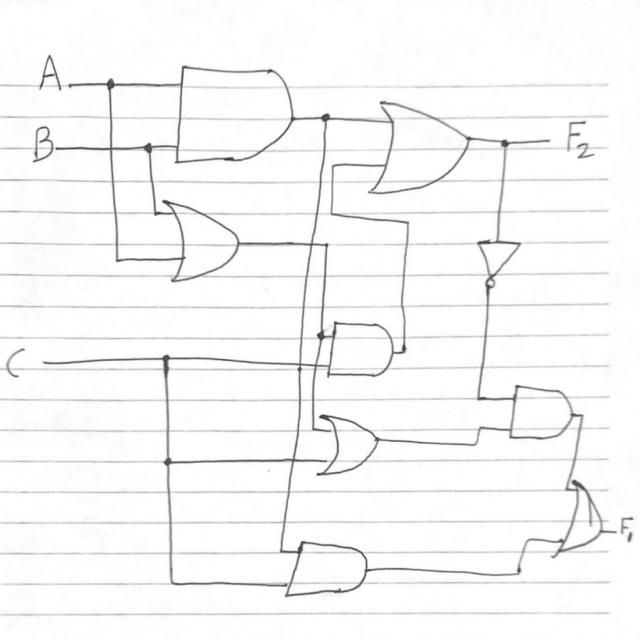AND: (169, 51, 302, 173), (282, 530, 386, 602), (505, 369, 578, 453), (326, 316, 400, 386)
NOT: (462, 221, 530, 294)
OR: (363, 92, 482, 201), (158, 189, 253, 297), (316, 408, 402, 490), (548, 475, 617, 568)
